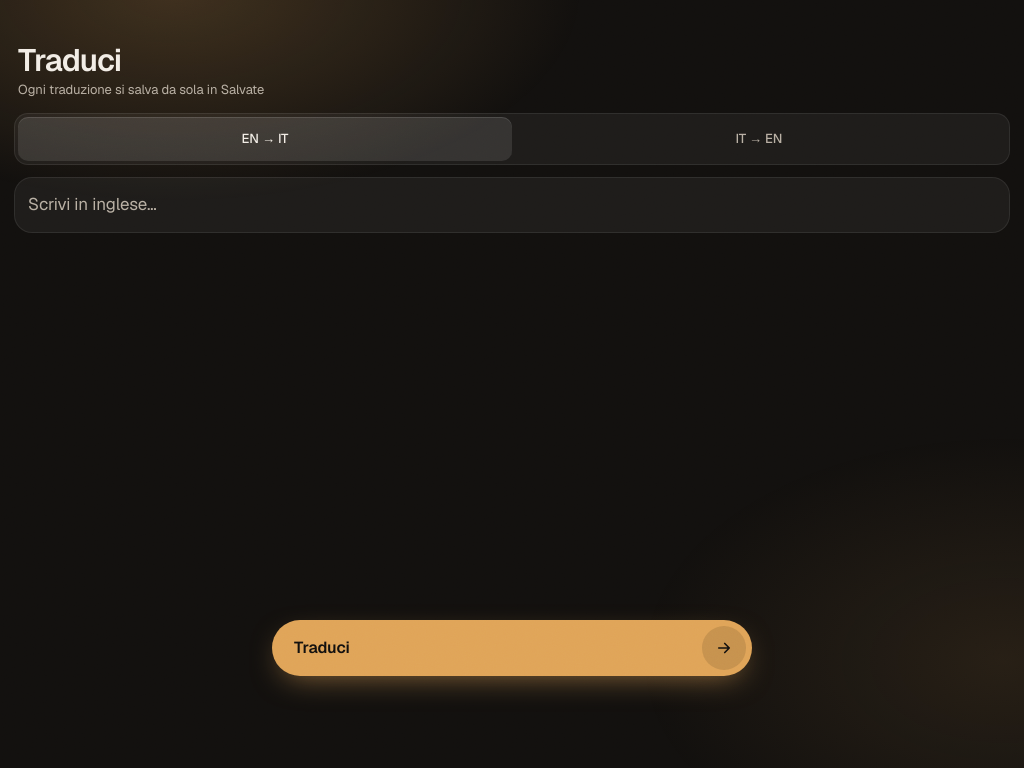
Test: Traduci › shows a word with its article and gender, and saves it with the article
The width and height of the screenshot is (1024, 768).
Step 1. Type "station" into the field named "Testo da tradurre" → (512, 205), box [14,177,1010,233]
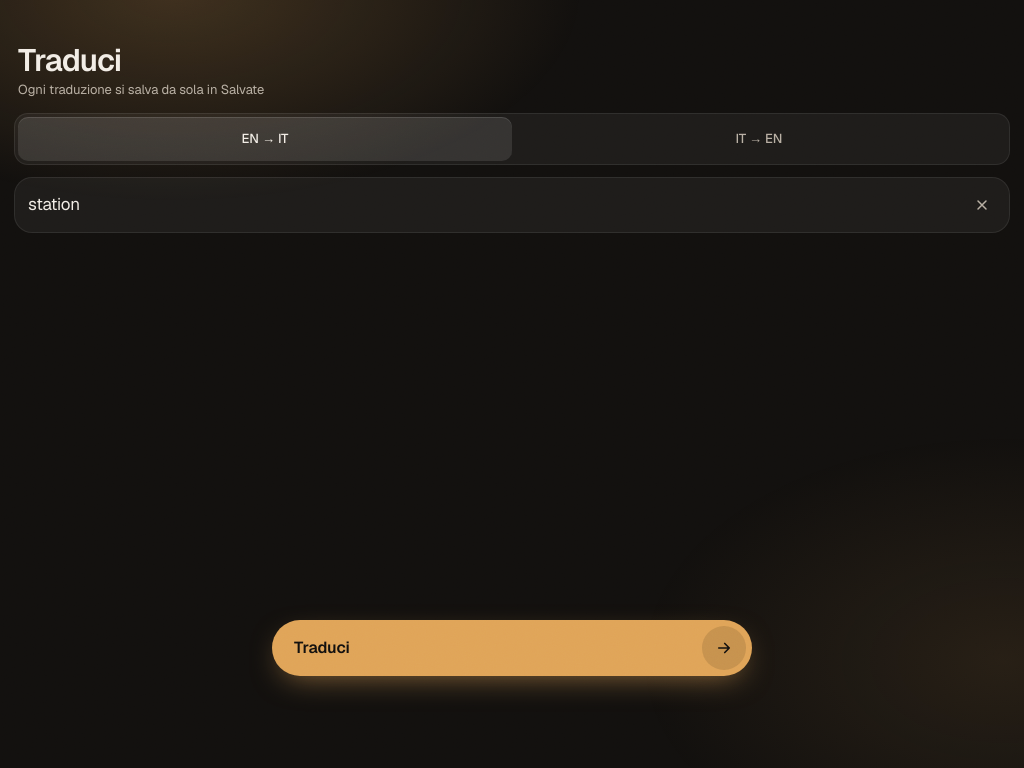
Step 2. Press Enter in the field named "Testo da tradurre", box [14,177,1010,233]
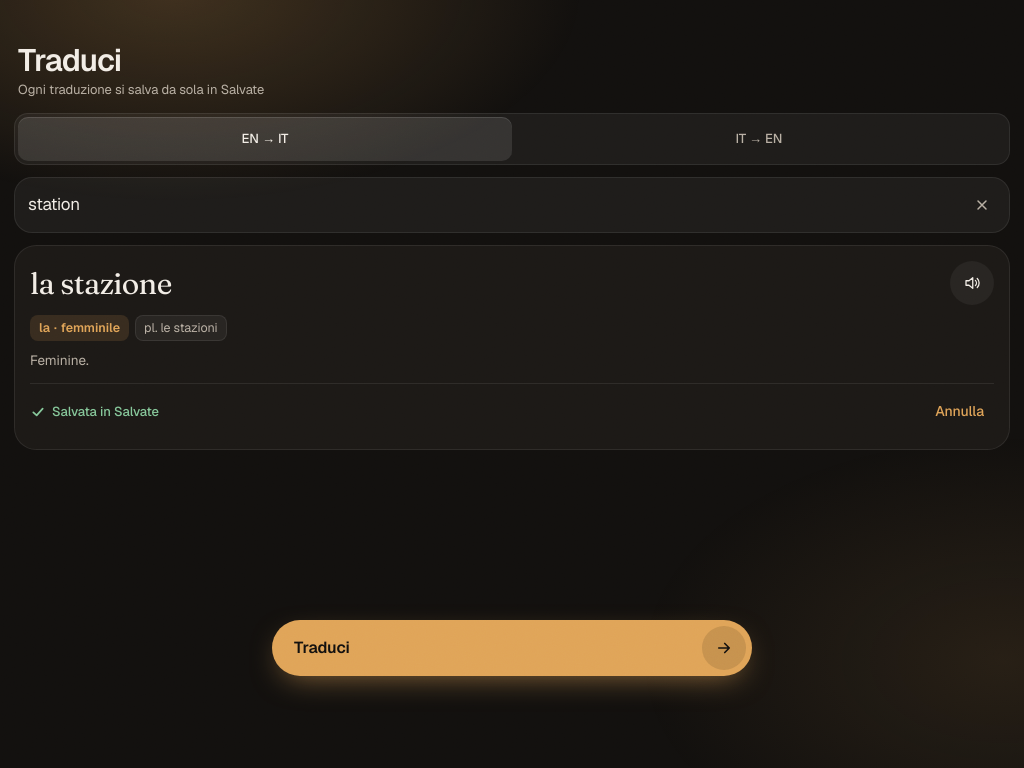
Result: the text "la stazione" is shown at [30,266,172,300]
Result: the text "pl. le stazioni" is shown at [135,315,226,341]
Result: the element with class "tr-saved" reads "Salvata in Salvate" at [52,403,159,420]
